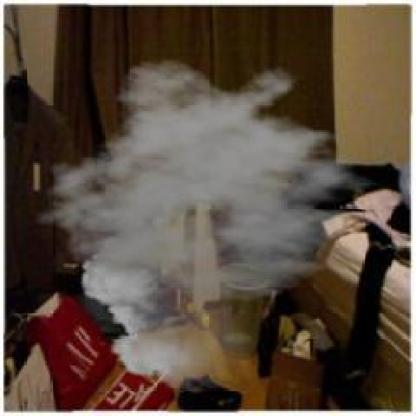Smoke: (36, 57, 394, 394)
